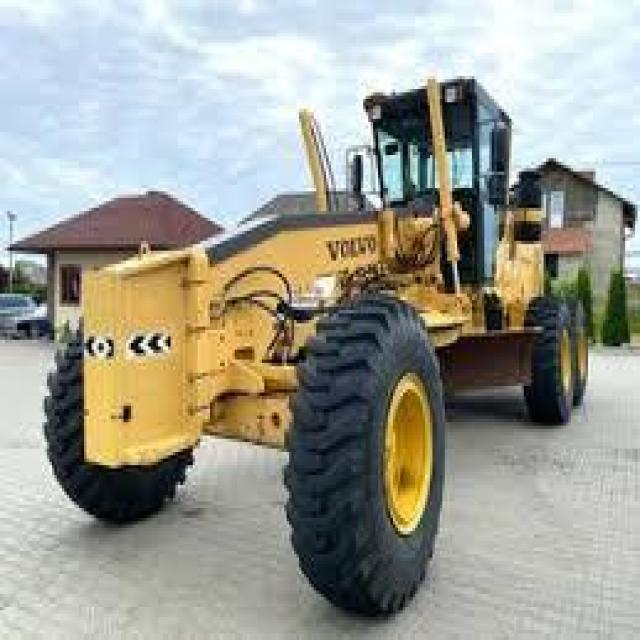Grader: (35, 72, 632, 600)
